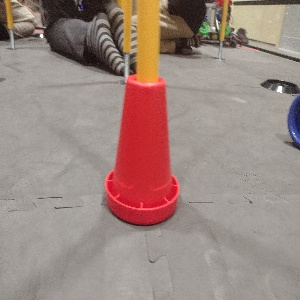Red_1: (103, 66, 180, 227)
